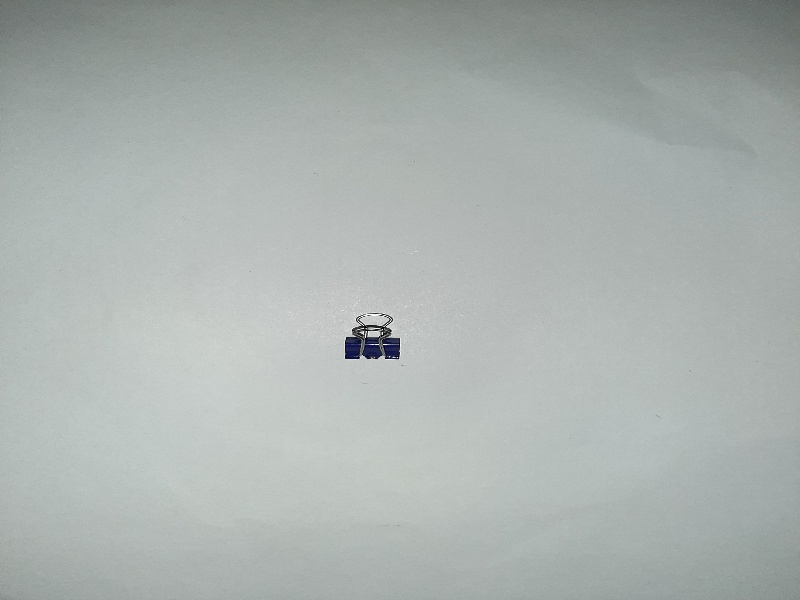Small Paperclip: (339, 306, 408, 368)
